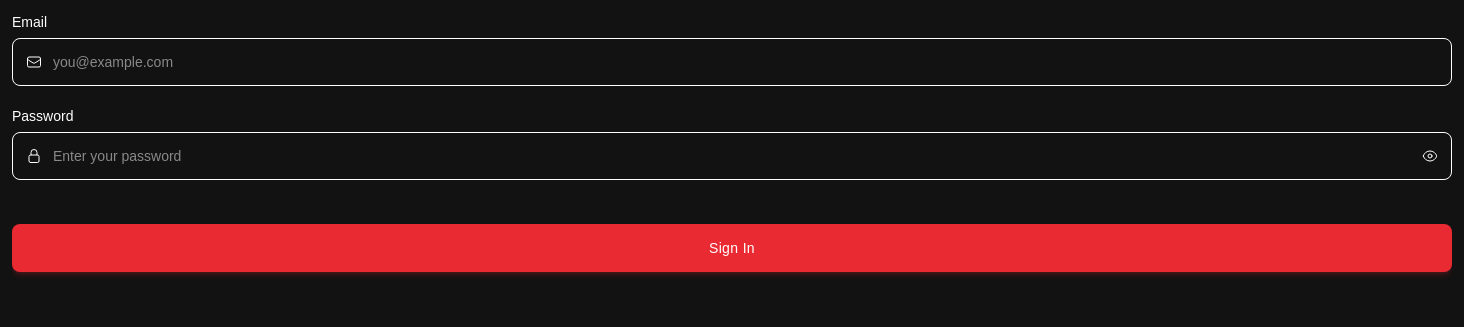
Test: LoginForm › shows server error message on login failure
Type "a@b.com" into the field with placeholder "you@example.com".
click(732, 62); type("a@b.com")  # box [12,38,1452,86]
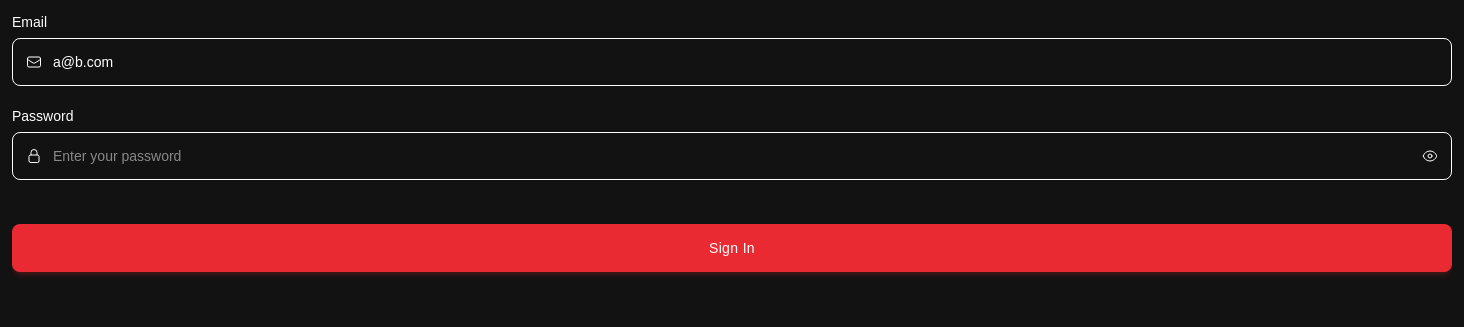
Type "wrongpass" into the password field with placeholder "Enter your password".
click(732, 156); type("wrongpass")  # box [12,132,1452,180]
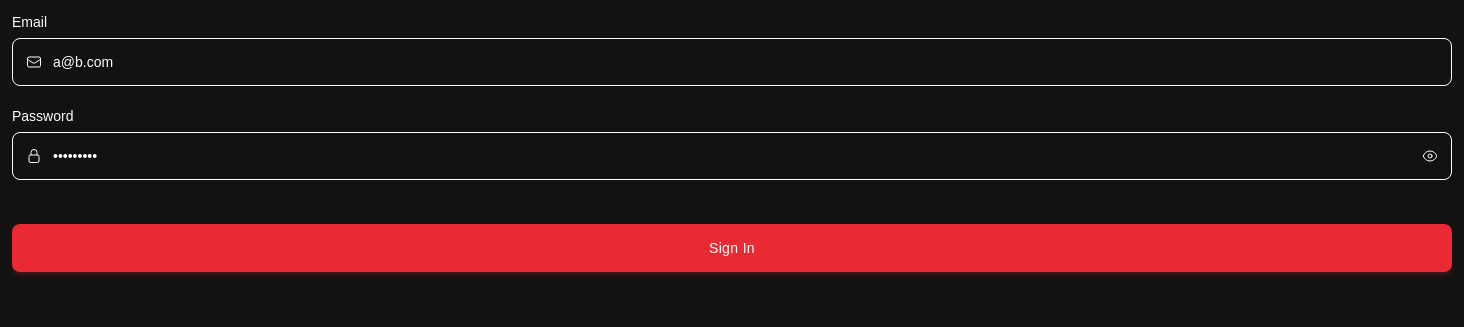
Click the button "Sign In".
click(732, 248)  # box [12,224,1452,272]
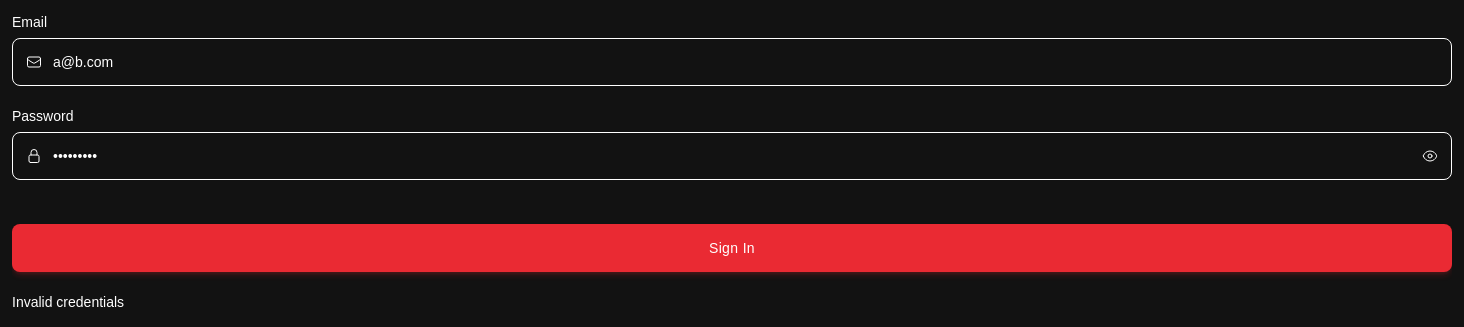
Expected: the message reads "Invalid credentials", [12,294,124,310]
